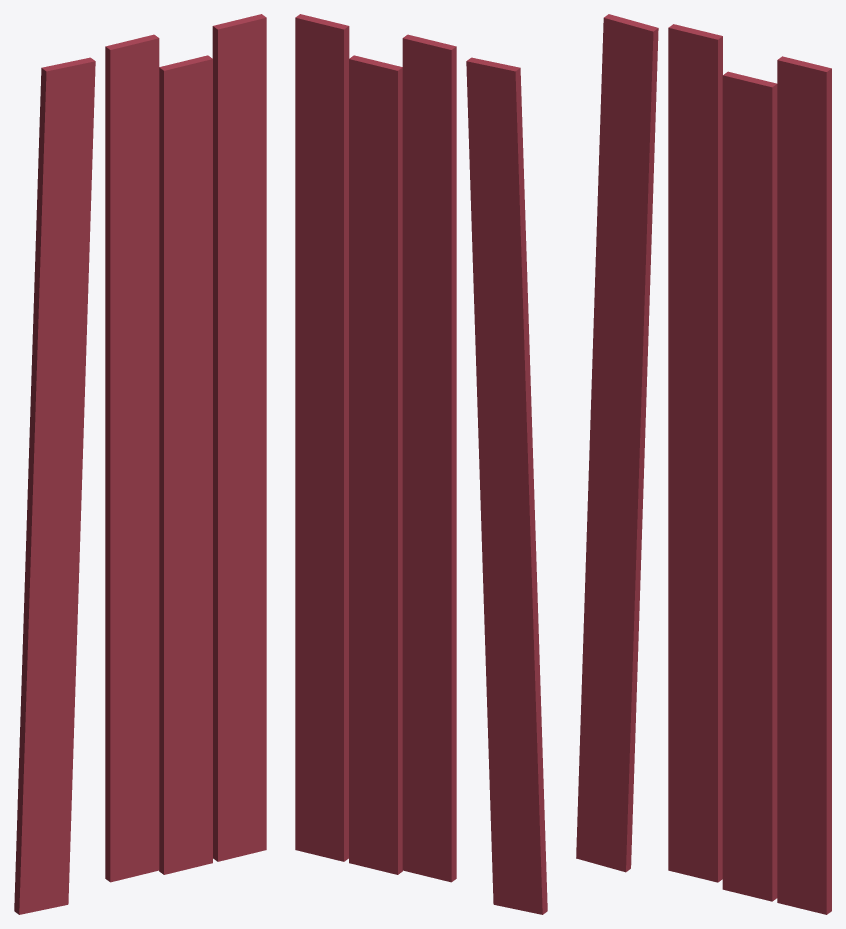
The model's file is plank_01.fbx.
3 views of the same model, side by side, from view 1: azimuth 30°, elevation 25°; view 2: azimuth 150°, elevation 25°; view 3: azimuth 330°, elevation 25° (orthographic).
Visible parts, largest first — view 1: polySurface4909; view 2: polySurface4909; view 3: polySurface4909.
Boxes of the visible parts, x1=… form: polySurface4909: x1=14, y1=14, x2=266, y2=914; polySurface4909: x1=295, y1=14, x2=547, y2=914; polySurface4909: x1=576, y1=14, x2=831, y2=914.
Bounding box in the file's own units: 0.5813 × 1.9 × 0.0206.
